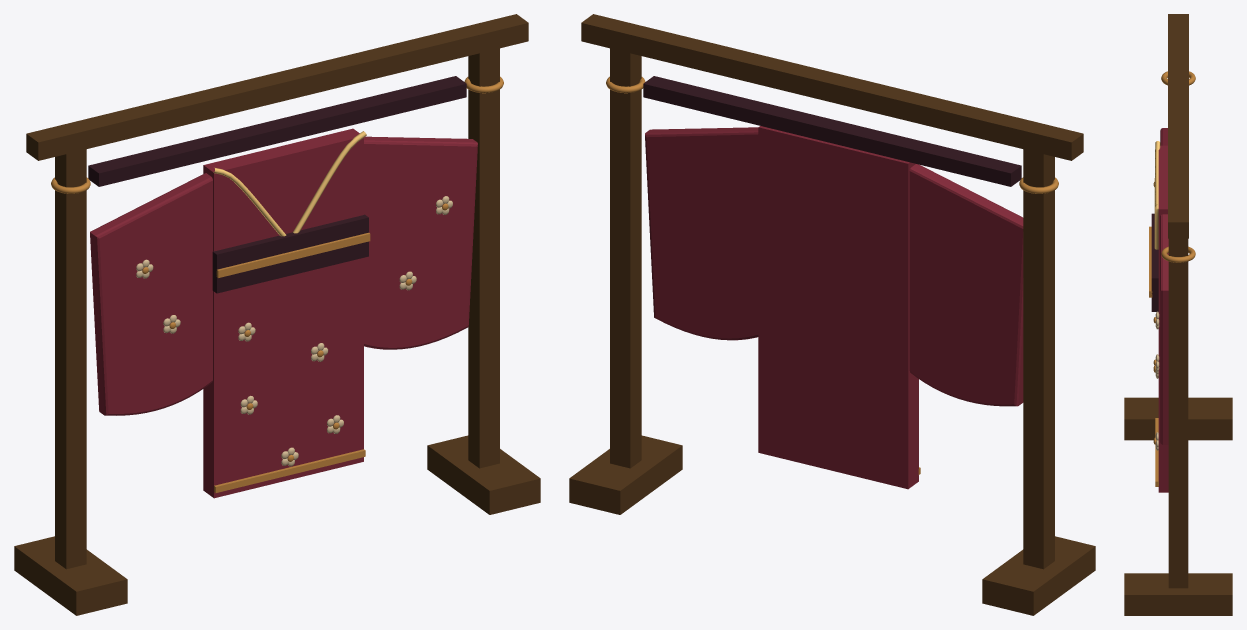
File: mia-kimono_rack.glb
The picture shows the model from 3 angles, left to right: view 1: azimuth 30°, elevation 25°; view 2: azimuth 150°, elevation 25°; view 3: azimuth 270°, elevation 25°; orthographic projection. The views are drawn at different scales.
Parts seen in each view (by area): view 1: Body_velvet, Body_wood, Body_dark, Body_brass, Body_ivory, Body_trim; view 2: Body_velvet, Body_wood, Body_dark; view 3: Body_wood, Body_velvet, Body_brass, Body_dark, Body_trim, Body_ivory.
Part boxes in pixels (box(x1,y1,x2,y2)): Body_velvet: box(90, 128, 477, 498); Body_wood: box(14, 14, 540, 615); Body_dark: box(88, 76, 466, 293); Body_brass: box(51, 76, 503, 492); Body_ivory: box(136, 196, 452, 466); Body_trim: box(213, 131, 366, 236); Body_velvet: box(645, 126, 1023, 489); Body_wood: box(569, 14, 1095, 615); Body_dark: box(643, 76, 1021, 186); Body_wood: box(1124, 14, 1232, 615); Body_velvet: box(1158, 128, 1168, 492); Body_brass: box(1149, 71, 1195, 486); Body_dark: box(1151, 213, 1158, 311); Body_trim: box(1154, 141, 1160, 249); Body_ivory: box(1155, 311, 1159, 450).
Size of the model in its own units: 2.16 by 1.93 by 0.475.
